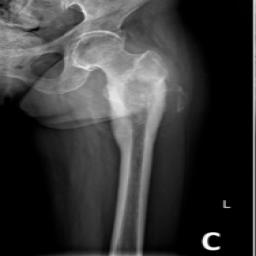cancer: (107, 51, 168, 158)
